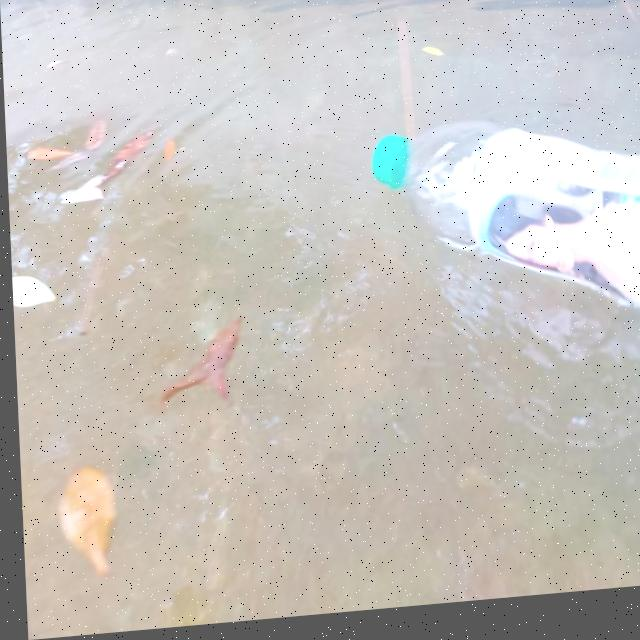waterbottle: (361, 104, 640, 374)
